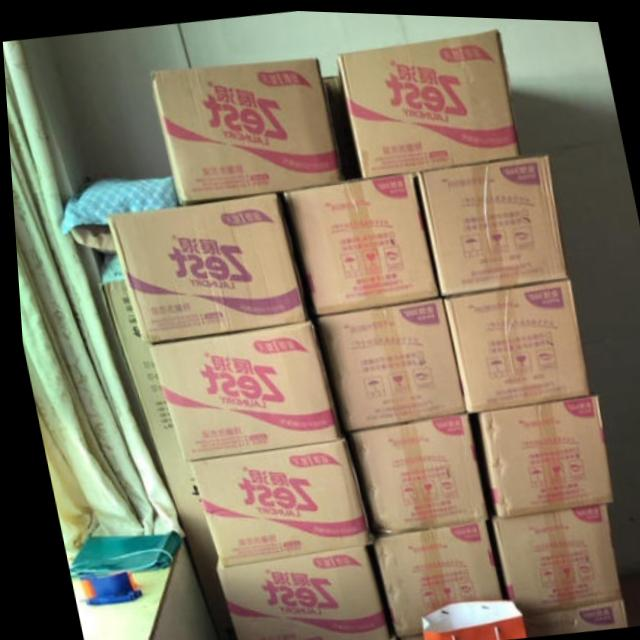box: (98, 253, 227, 640), (104, 190, 309, 344), (149, 56, 341, 204), (143, 317, 336, 462), (336, 26, 520, 176), (181, 435, 367, 567), (279, 170, 437, 316), (413, 151, 564, 294), (310, 294, 463, 430), (438, 276, 585, 411), (338, 411, 483, 536), (209, 543, 385, 640), (470, 393, 607, 515), (366, 519, 495, 635), (484, 500, 614, 610), (513, 595, 621, 634)
